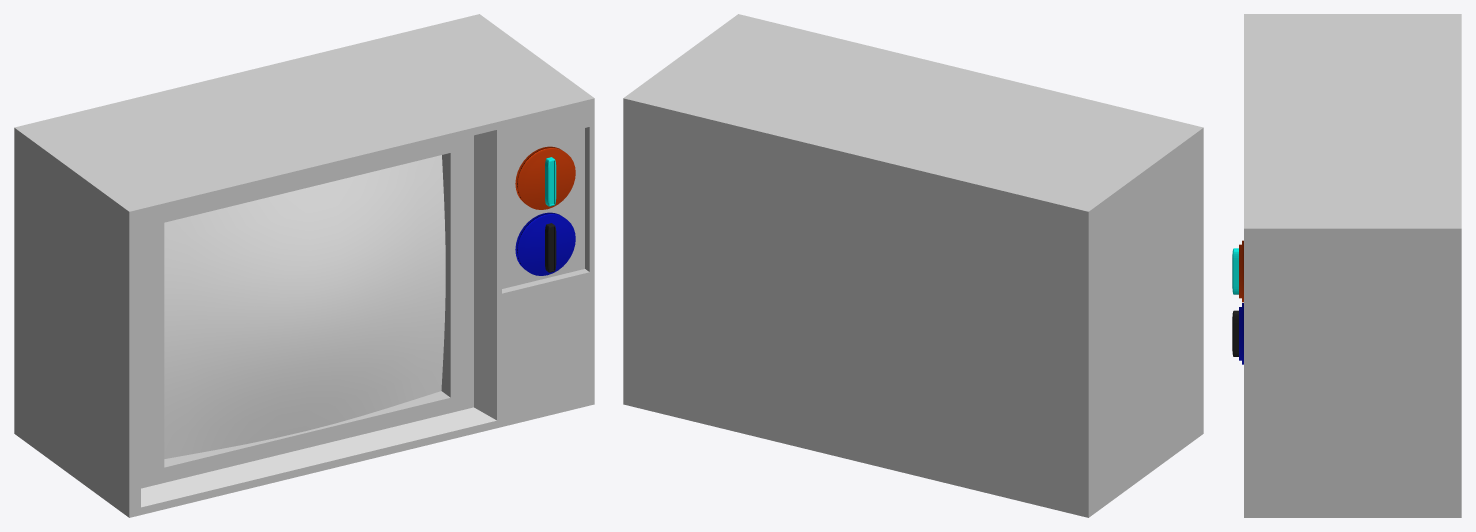
Rendered from tvv.fbx.
3 renders of one model, left to right at view 1: azimuth 30°, elevation 25°; view 2: azimuth 150°, elevation 25°; view 3: azimuth 270°, elevation 25°, orthographic. The views are drawn at different scales.
Parts seen in each view (by area): view 1: base, base.003, Cylinder.002, Cylinder.003; view 2: base; view 3: base, Cube.002, Cube.003, Cylinder.002, Cylinder.003.
Boxes of the visible parts, x1,y1,x2,y2 form: base: [14, 14, 594, 517]; base.003: [164, 155, 445, 458]; Cylinder.002: [515, 146, 575, 209]; Cylinder.003: [515, 212, 575, 275]; base: [623, 14, 1203, 517]; base: [1244, 14, 1461, 517]; Cube.002: [1232, 248, 1238, 294]; Cube.003: [1232, 310, 1238, 356]; Cylinder.002: [1239, 240, 1243, 302]; Cylinder.003: [1239, 303, 1243, 364].
Size of the model in its own units: 7 by 4.4 by 3.16.
